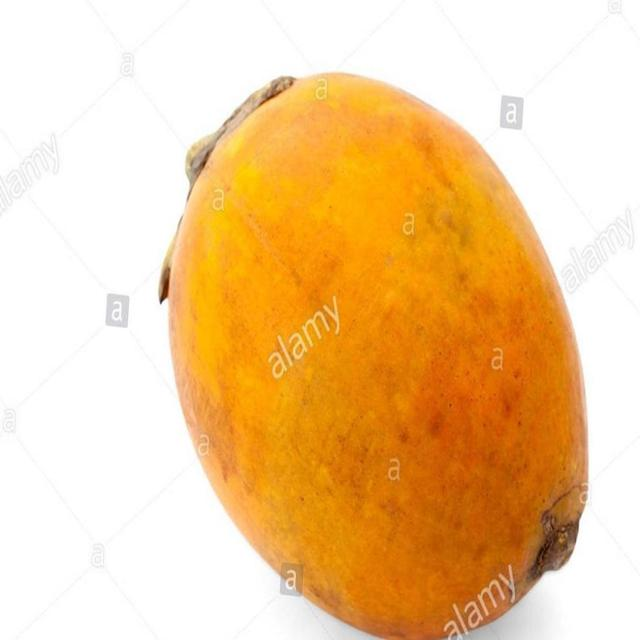good: (162, 73, 590, 639)
